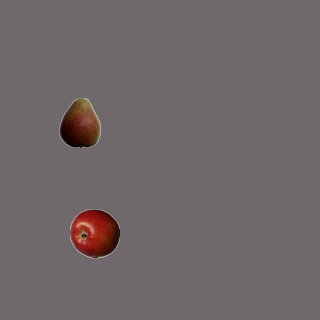Apple Braeburn: (69, 208, 119, 258)
Pear Forelle: (54, 97, 104, 147)
